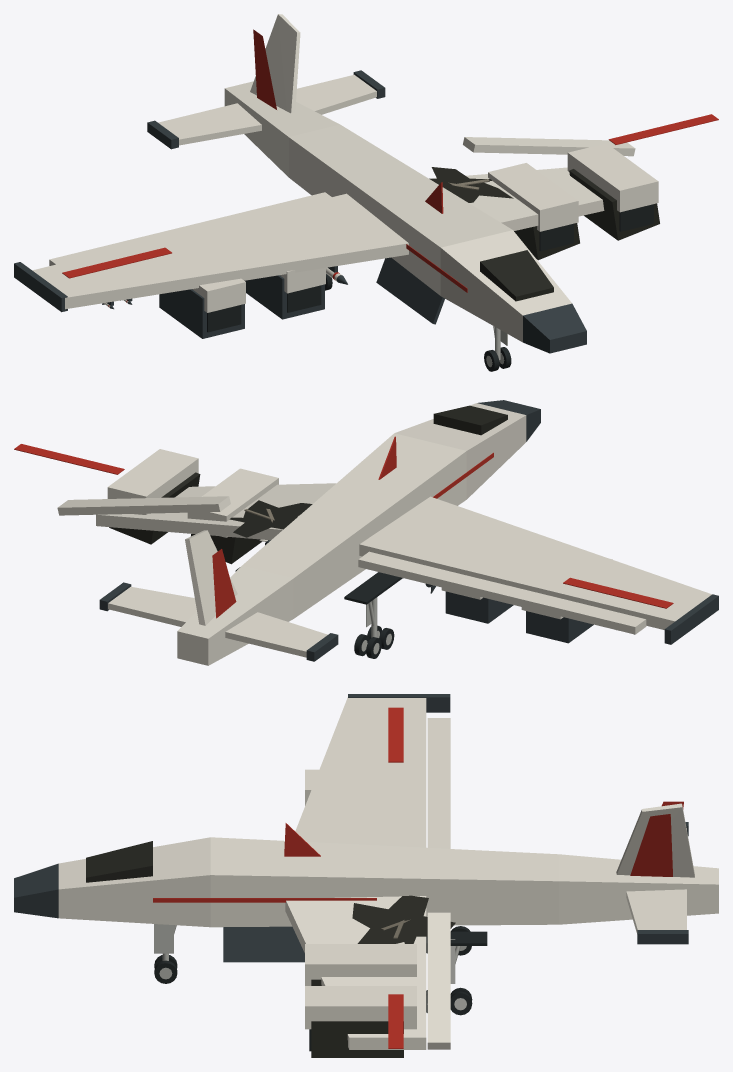
3 renders of one model, top to bottom at view 1: azimuth 30°, elevation 25°; view 2: azimuth 150°, elevation 25°; view 3: azimuth 270°, elevation 25°, orthographic. The views are drawn at different scales.
Parts seen in each view (by area): view 1: bomber-damaged-fleet-armor, bomber-damaged-fleet-machine, bomber-damaged-fleet-damage-charred, bomber-damaged-fleet-red, bomber-damaged-fleet-rubber, flap-right-painted, flap-left-painted; view 2: bomber-damaged-fleet-armor, bomber-damaged-fleet-machine, flap-left-painted, bomber-damaged-fleet-damage-charred, bomber-damaged-fleet-red, flap-right-painted, bomber-damaged-fleet-rubber; view 3: bomber-damaged-fleet-armor, bomber-damaged-fleet-damage-charred, bomber-damaged-fleet-machine, bomber-damaged-fleet-red, flap-right-painted, flap-left-painted, landing-gear-nose-fleet-edge, bomber-damaged-fleet-rubber.
Part boxes in pixels (x1,y1,x2,y2): bomber-damaged-fleet-armor: (32,14,658,342); bomber-damaged-fleet-machine: (14,70,586,353); bomber-damaged-fleet-damage-charred: (429,167,659,301); bomber-damaged-fleet-red: (62,29,718,292); bomber-damaged-fleet-rubber: (207,204,653,332); flap-right-painted: (463,137,635,156); flap-left-painted: (49,192,331,265); bomber-damaged-fleet-armor: (96,403,711,665); bomber-damaged-fleet-machine: (99,400,718,661); flap-left-painted: (358,551,646,634); bomber-damaged-fleet-damage-charred: (109,405,507,564); bomber-damaged-fleet-red: (14,436,673,618); flap-right-painted: (57,496,230,515); bomber-damaged-fleet-rubber: (235,567,402,604); bomber-damaged-fleet-armor: (58,697,718,1049); bomber-damaged-fleet-damage-charred: (86,841,455,1057); bomber-damaged-fleet-machine: (14,694,688,962); bomber-damaged-fleet-red: (153,707,683,1048); flap-right-painted: (427,912,450,1049); flap-left-painted: (427,718,450,848); landing-gear-nose-fleet-edge: (154,924,176,960); bomber-damaged-fleet-rubber: (309,931,487,1051).
Size of the model in its own units: 150 by 37.06 by 126.
